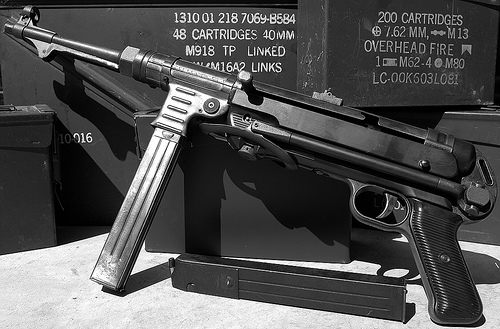rifle: (15, 12, 485, 317)
